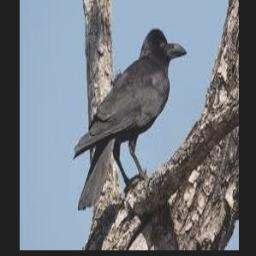Crow: (74, 28, 188, 212)
